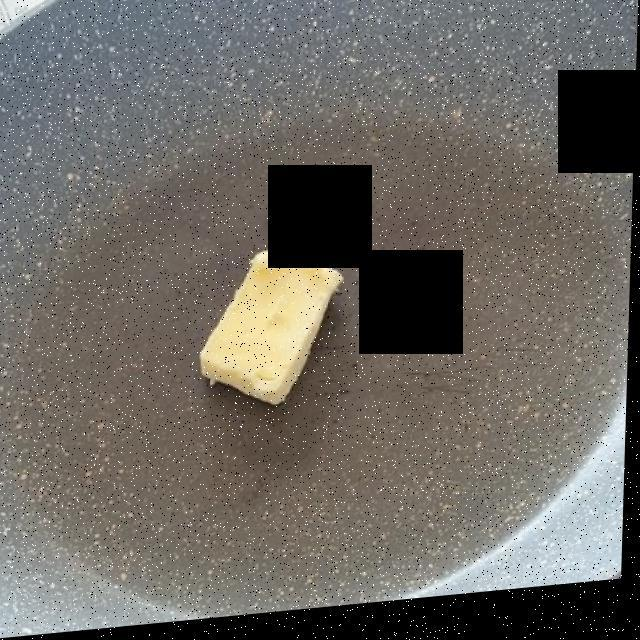butter: (204, 257, 345, 411)
